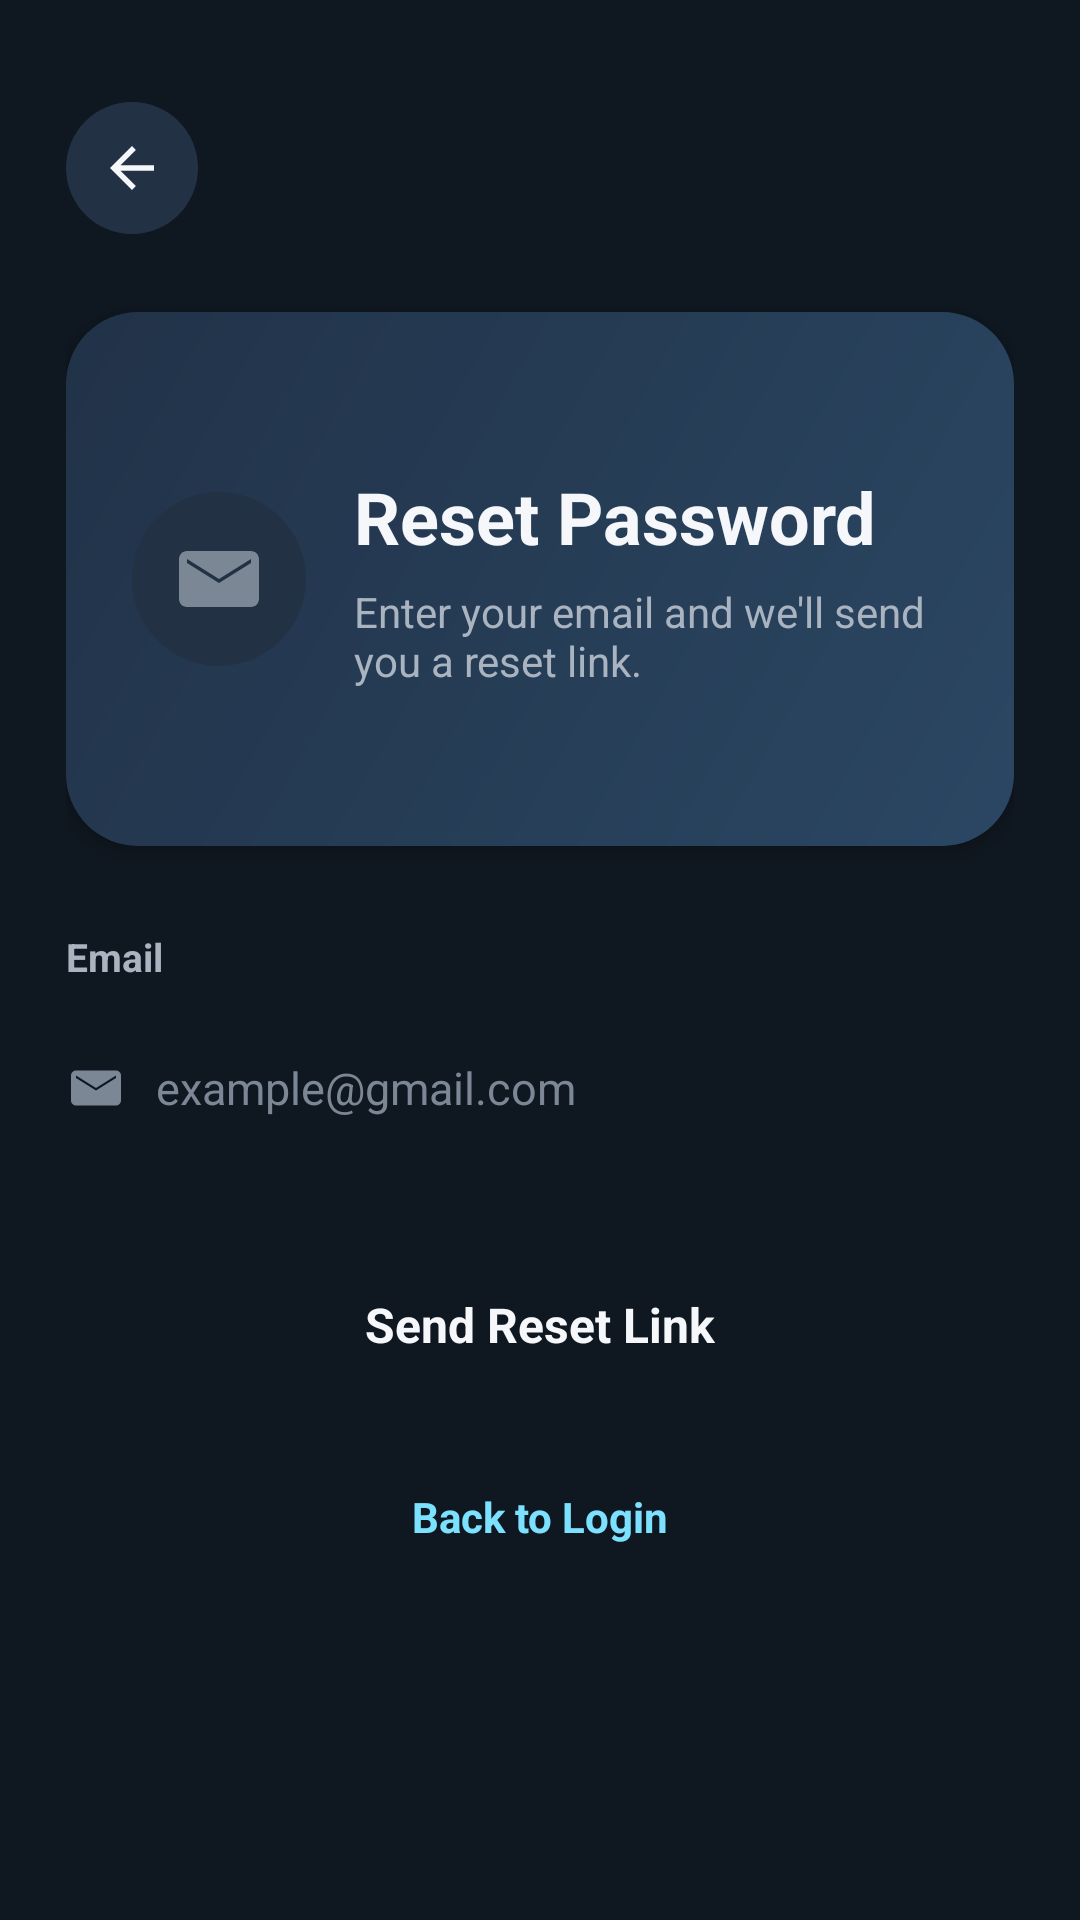

Icons on this 1080*1920 Android screen, each with the point to tap as [x,y]:
Back: [132,168]
